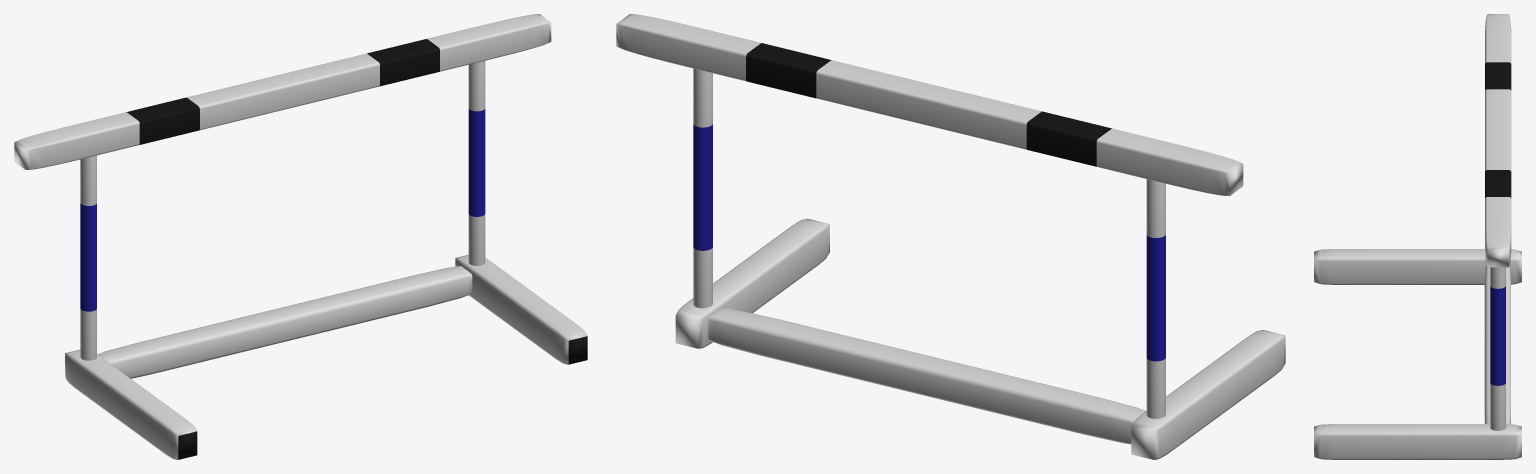
File: hurdle.fbx
The picture shows the model from 3 angles, left to right: view 1: azimuth 30°, elevation 25°; view 2: azimuth 150°, elevation 25°; view 3: azimuth 270°, elevation 25°; orthographic projection. The views are drawn at different scales.
Visible parts, largest first — view 1: Cube.002, Cube.001, Cube, Cylinder; view 2: Cube.002, Cube.001, Cube, Cylinder; view 3: Cube, Cube.002, Cylinder, Cube.001.
Part boxes in pixels (bbox=[...]): Cube.002: bbox=[14, 14, 551, 169]; Cube.001: bbox=[97, 266, 472, 378]; Cube: bbox=[65, 255, 587, 459]; Cylinder: bbox=[80, 61, 485, 360]; Cube.002: bbox=[616, 14, 1243, 195]; Cube.001: bbox=[708, 308, 1145, 444]; Cube: bbox=[675, 218, 1285, 459]; Cylinder: bbox=[693, 68, 1165, 418]; Cube: bbox=[1314, 249, 1521, 459]; Cube.002: bbox=[1485, 14, 1511, 267]; Cylinder: bbox=[1490, 267, 1505, 430]; Cube.001: bbox=[1484, 265, 1510, 424].
Size of the model in its own units: 279 by 132 by 104.
